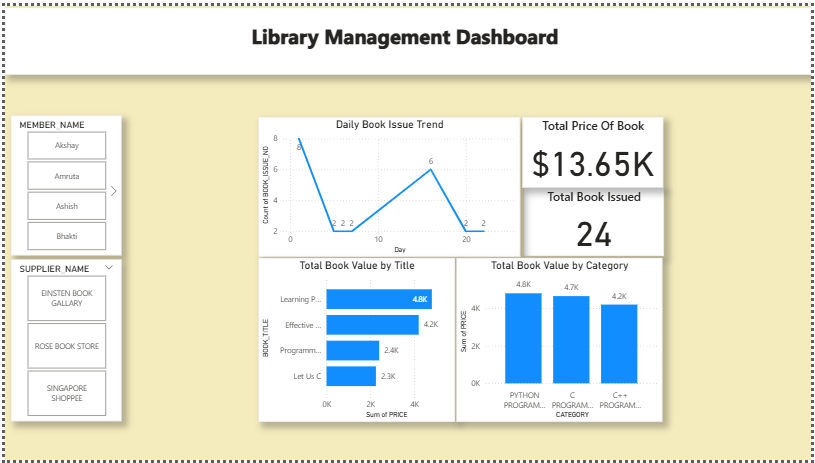

This screenshot's page, from the dashboard's own definition file:
{"tool":"powerbi","page":{"name":"Overview","canvas":[1280,720],"ordinal":0},"visuals":[{"type":"textbox","box":[0,3.2,1279.4,106.3],"z":0},{"type":"card","title":"Total Book Issued","fields":{"Values":["Measure.Total Book Issued"]},"box":[771.7,285,221.7,108.3],"z":1000},{"type":"lineChart","title":"Daily Book Issue Trend","fields":{"Y":["Lms_Analysis.BOOK_ISSUE_NO"],"Category":["Lms_Analysis.DATE_ISSUE.Variation.Date Hierarchy.Day"]},"box":[351.7,173.3,415,221.7],"z":2000},{"type":"clusteredBarChart","title":"Total Book Value by Title","fields":{"Category":["Lms_Analysis.BOOK_TITLE"],"Y":["Lms_Analysis.PRICE"]},"box":[350,398.3,311.7,260],"z":3000},{"type":"card","title":"Total Price Of Book","fields":{"Values":["Measure.Total Price Of Book"]},"box":[770,173.3,223.3,111.7],"z":4000},{"type":"clusteredColumnChart","title":"Total Book Value by Category","fields":{"Category":["Lms_Analysis.CATEGORY"],"Y":["Lms_Analysis.PRICE"]},"box":[665,398.3,326.7,260],"z":5000},{"type":"slicer","fields":{"Values":["Lms_Analysis.MEMBER_NAME"]},"box":[8.3,173.3,175,221.7],"z":6000},{"type":"slicer","fields":{"Values":["Lms_Analysis.SUPPLIER_NAME"]},"box":[8.3,401.7,175,256.7],"z":7000}]}

Visuals, with their boxes in screenshot pixels (x1, y1, x2, y2), scaled from the page's 1280x720 canvas onto the 815x463 screenshot:
textbox: (x1=0, y1=2, x2=814, y2=70)
"Total Book Issued" card: (x1=491, y1=183, x2=633, y2=253)
"Daily Book Issue Trend" lineChart: (x1=224, y1=111, x2=488, y2=254)
"Total Book Value by Title" clusteredBarChart: (x1=223, y1=256, x2=421, y2=423)
"Total Price Of Book" card: (x1=490, y1=111, x2=632, y2=183)
"Total Book Value by Category" clusteredColumnChart: (x1=423, y1=256, x2=631, y2=423)
slicer - Lms_Analysis.MEMBER_NAME: (x1=5, y1=111, x2=117, y2=254)
slicer - Lms_Analysis.SUPPLIER_NAME: (x1=5, y1=258, x2=117, y2=423)
